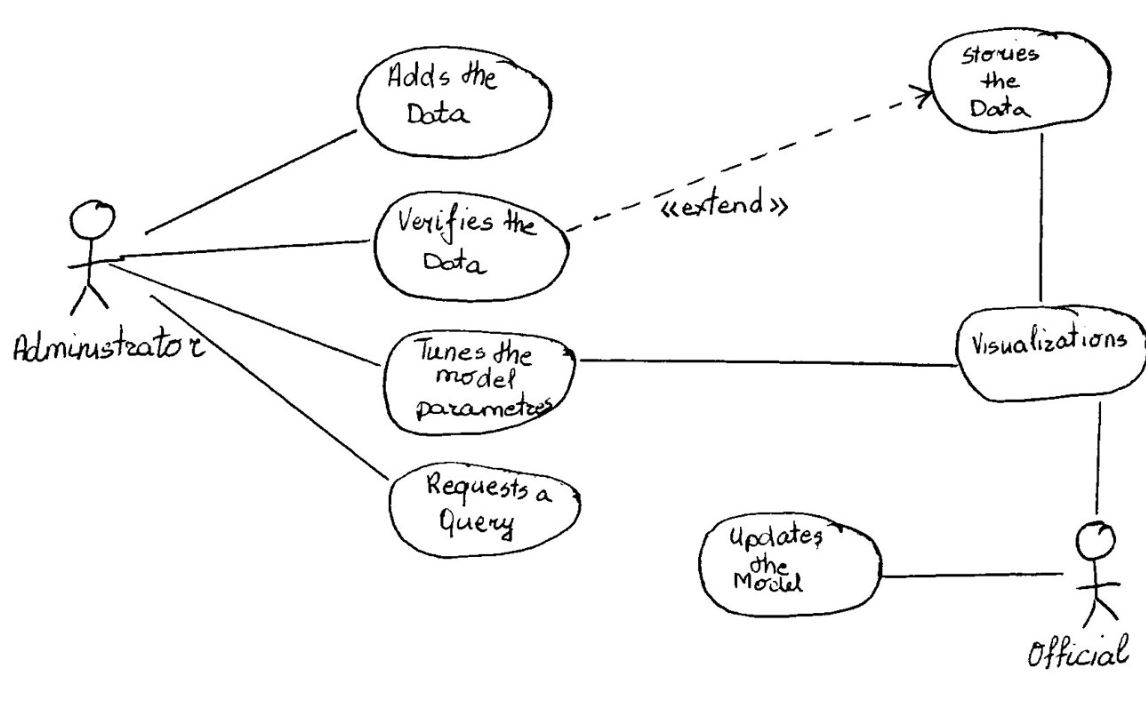actor: (64, 192, 124, 319), (1069, 516, 1131, 631)
association: (568, 76, 933, 233), (148, 293, 394, 482), (113, 265, 383, 368), (142, 127, 357, 235), (574, 339, 954, 394), (883, 553, 1066, 598), (122, 236, 369, 261), (1032, 134, 1052, 307), (1086, 399, 1116, 513)
text: (411, 342, 553, 423), (397, 199, 534, 276), (424, 471, 553, 542), (962, 317, 1138, 369), (727, 526, 845, 600), (383, 57, 496, 132), (15, 326, 208, 369), (955, 38, 1038, 122), (1019, 633, 1138, 669), (656, 189, 798, 218)
use_case: (371, 189, 570, 303), (356, 45, 553, 160), (383, 328, 578, 438), (697, 510, 883, 618), (926, 25, 1111, 133), (388, 459, 584, 559), (957, 302, 1146, 404)
